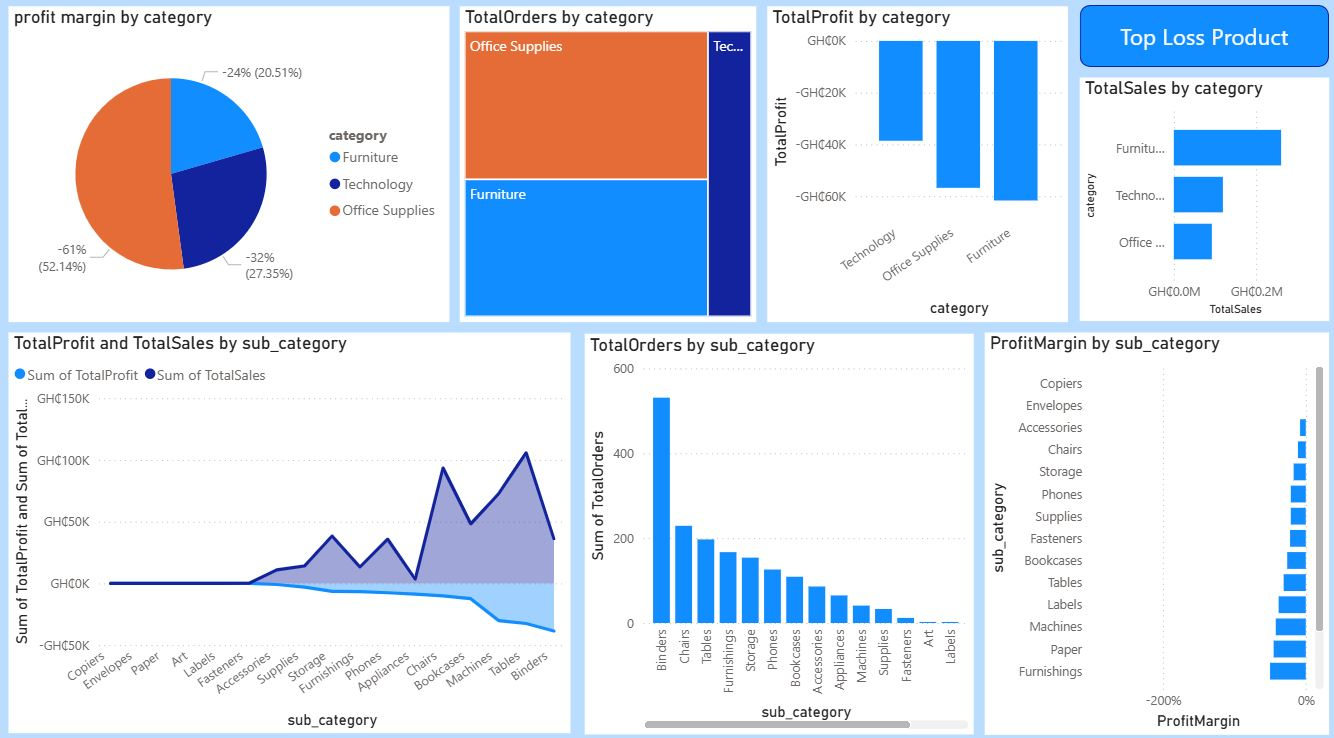

What the dashboard file says about the page in this screenshot:
{"tool":"powerbi","page":{"name":"loss analytics","canvas":[1280,720],"ordinal":4},"visuals":[{"type":"pieChart","title":" profit margin by category","fields":{"Category":["loss by Category.category"],"Y":["Sum(loss by Category.profit margin)"]},"box":[12.3,15.1,419.9,300.5],"z":0},{"type":"treemap","title":"TotalOrders by category","fields":{"Group":["loss by Category.category"],"Values":["Sum(loss by Category.TotalOrders)"]},"box":[441.9,15.1,282.7,300.5],"z":1000},{"type":"clusteredColumnChart","title":"TotalProfit by category","fields":{"Category":["loss by Category.category"],"Y":["Sum(loss by Category.TotalProfit)"]},"box":[734.1,15.1,286.8,300.5],"z":2000},{"type":"clusteredBarChart","title":" TotalSales by category","fields":{"Category":["loss by Category.category"],"Y":["Sum(loss by Category.TotalSales)"]},"box":[1031.9,83.7,237.4,231.9],"z":3000},{"type":"areaChart","title":"TotalProfit and TotalSales by sub_category","fields":{"Category":["Loss by sub_category.sub_category"],"Y":["Sum(Loss by sub_category.TotalProfit)","Sum(Loss by sub_category.TotalSales)"]},"box":[12.3,326.6,535.2,381.5],"z":4000},{"type":"clusteredColumnChart","title":" TotalOrders by sub_category","fields":{"Category":["Loss by sub_category.sub_category"],"Y":["Sum(Loss by sub_category.TotalOrders)"]},"box":[561.2,328,370.5,381.5],"z":5000},{"type":"clusteredBarChart","title":" ProfitMargin by sub_category","fields":{"Category":["Loss by sub_category.sub_category"],"Y":["Sum(Loss by sub_category.ProfitMargin)"]},"box":[941.3,326.6,328,382.8],"z":6000},{"type":"shape","box":[1031.9,13.7,237.4,59],"z":7000}]}

Visuals, with their boxes in screenshot pixels (x1, y1, x2, y2), scaled from the page's 1280x720 canvas onto the 1334x738 screenshot:
" profit margin by category" pieChart: detection(13, 15, 450, 323)
"TotalOrders by category" treemap: detection(461, 15, 755, 323)
"TotalProfit by category" clusteredColumnChart: detection(765, 15, 1064, 323)
" TotalSales by category" clusteredBarChart: detection(1075, 86, 1323, 323)
"TotalProfit and TotalSales by sub_category" areaChart: detection(13, 335, 571, 726)
" TotalOrders by sub_category" clusteredColumnChart: detection(585, 336, 971, 727)
" ProfitMargin by sub_category" clusteredBarChart: detection(981, 335, 1323, 727)
shape: detection(1075, 14, 1323, 75)
